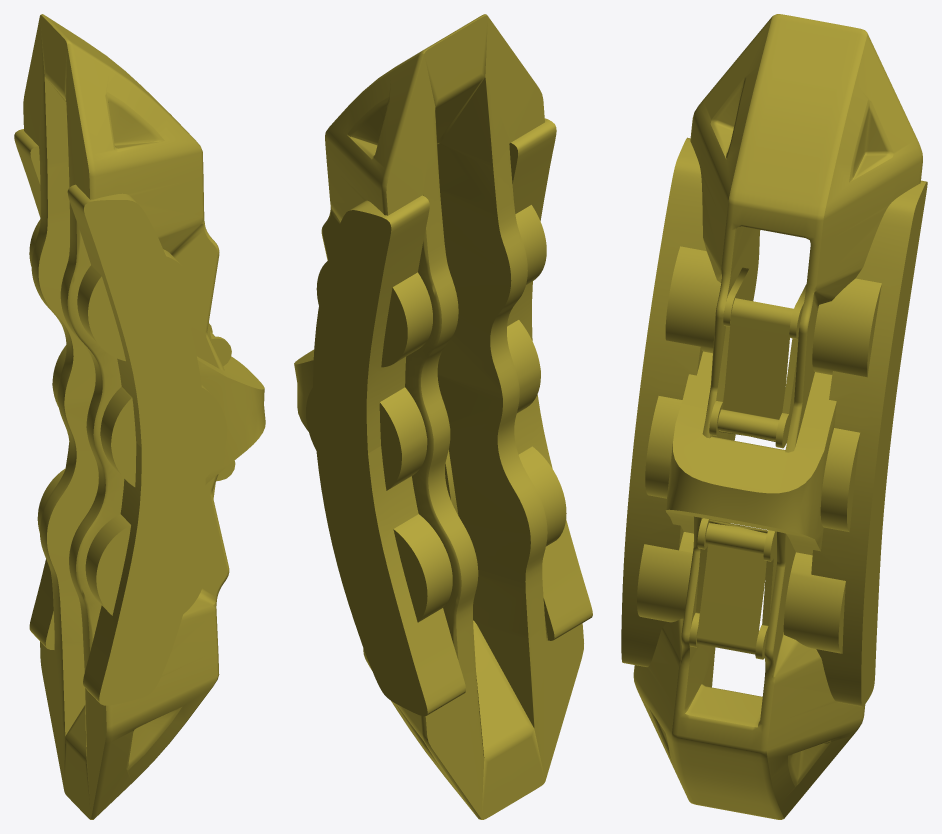
The model's file is Calliper_bl.fbx.
3 views of the same model, side by side, from view 1: azimuth 30°, elevation 25°; view 2: azimuth 150°, elevation 25°; view 3: azimuth 270°, elevation 25° (orthographic). The views are drawn at different scales.
Parts seen in each view (by area): view 1: Calliper_bl; view 2: Calliper_bl; view 3: Calliper_bl.
Boxes of the visible parts, left/top/right/bottom form: Calliper_bl: left=14, top=14, right=265, bottom=819; Calliper_bl: left=294, top=14, right=592, bottom=819; Calliper_bl: left=621, top=14, right=927, bottom=819.
Bounding box in the file's own units: 10.06 × 34.88 × 12.03.
